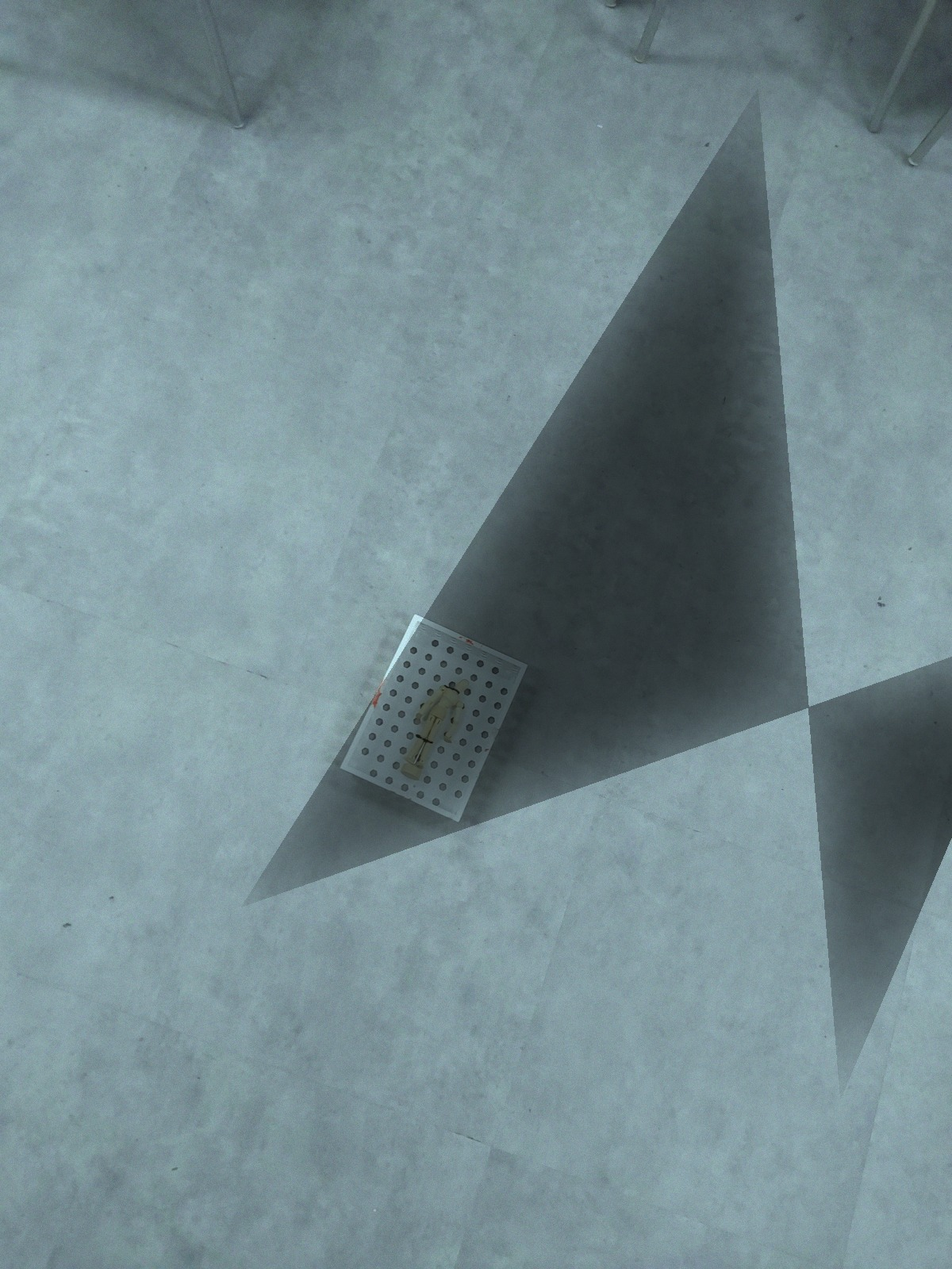basket: (337, 611, 532, 826)
mannequin: (399, 677, 473, 784)
